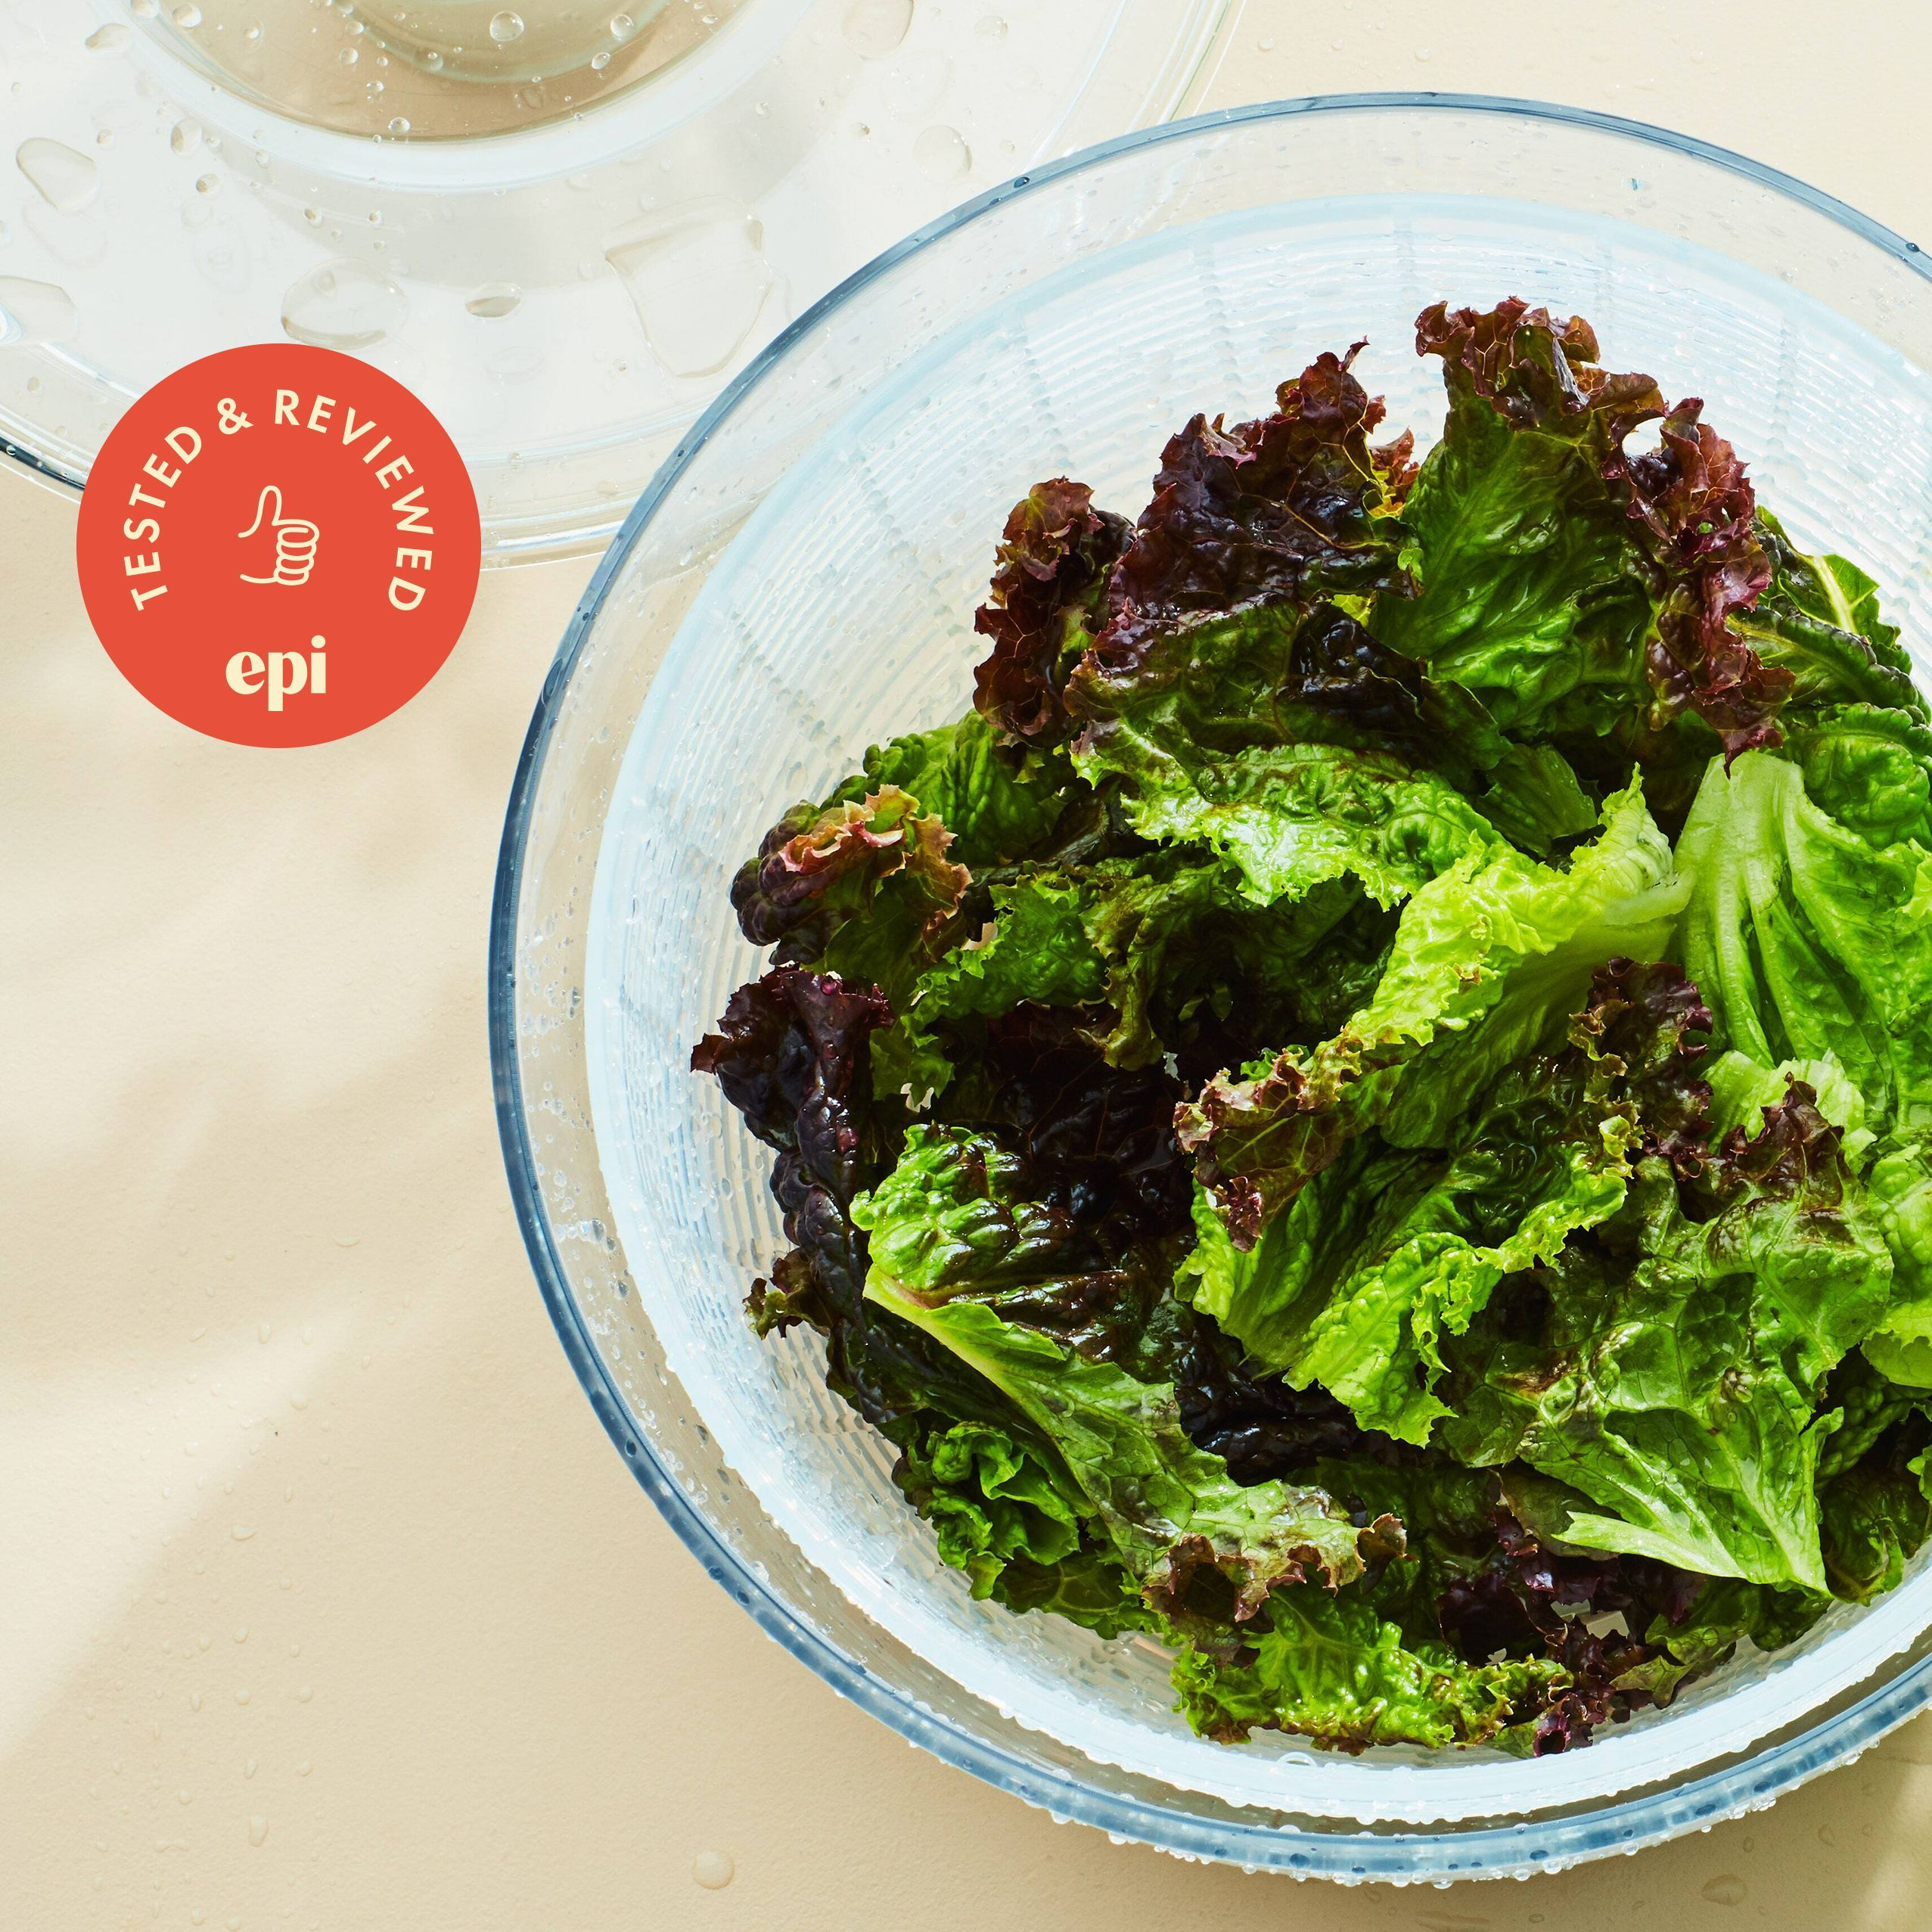lettuce: (669, 326, 1875, 1743)
